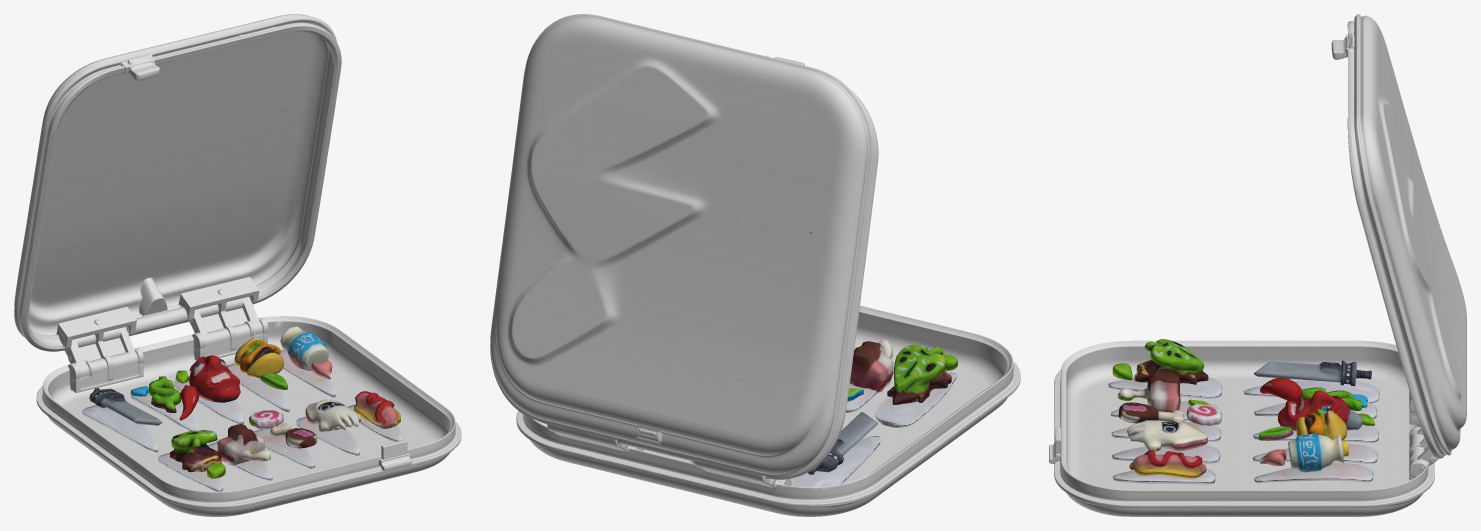
Rendered from berserk-nails.glb.
3 views of the same model, side by side, from view 1: azimuth 30°, elevation 25°; view 2: azimuth 150°, elevation 25°; view 3: azimuth 270°, elevation 25° (orthographic). The views are drawn at different scales.
Parts seen in each view (by area): view 1: unnamed_n3d, tripo_node_c0f82c5b-d614-477d-84cb-848c6b42a31f; view 2: unnamed_n3d, tripo_node_c0f82c5b-d614-477d-84cb-848c6b42a31f; view 3: unnamed_n3d, tripo_node_c0f82c5b-d614-477d-84cb-848c6b42a31f.
Boxes of the visible parts, box(x1,y1,x2,y2) form: unnamed_n3d: box(14, 14, 461, 516); tripo_node_c0f82c5b-d614-477d-84cb-848c6b42a31f: box(82, 326, 403, 491); unnamed_n3d: box(490, 14, 1020, 516); tripo_node_c0f82c5b-d614-477d-84cb-848c6b42a31f: box(688, 339, 957, 486); unnamed_n3d: box(1049, 14, 1466, 516); tripo_node_c0f82c5b-d614-477d-84cb-848c6b42a31f: box(1108, 338, 1379, 484).
Size of the model in its own units: 0.7142 by 0.8158 by 0.8122.
Materials: 2 (1 with a texture image).
